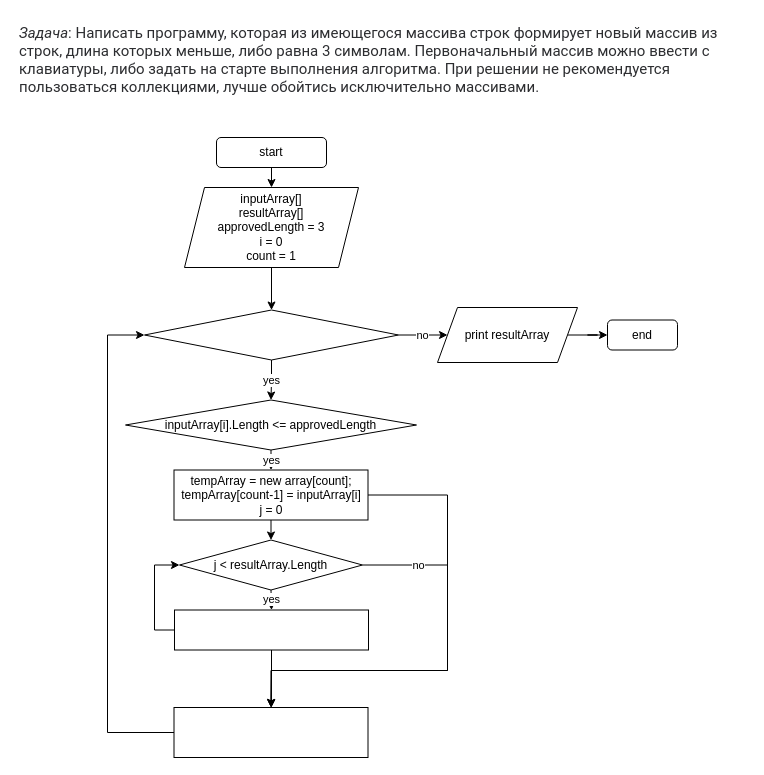
The diagram is 764 pixels wide and 775 high, and some of its shapes have lost their labels. Here are the shapes that lost their labels. From the top down, the centre of each, then its label:
[271,334]: i < inputArray.Length
[271,629]: tempArray[j] = resultArray[j]; j++;
[270,732]: resultArray = tempArray; count++; i++;
